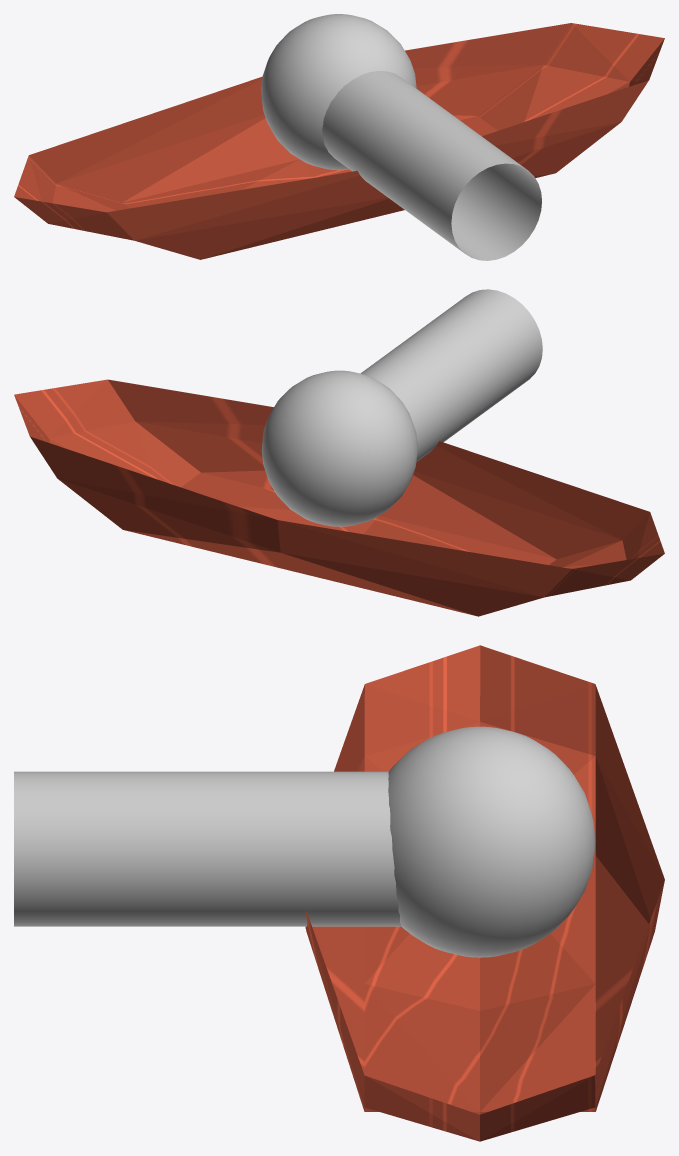
Rendered from Player.obj.
The picture shows the model from 3 angles, top to bottom: view 1: azimuth 30°, elevation 25°; view 2: azimuth 150°, elevation 25°; view 3: azimuth 270°, elevation 25°; orthographic projection. The views are drawn at different scales.
Parts seen in each view (by area): view 1: ship, Cannon; view 2: ship, Cannon; view 3: Cannon, ship.
Boxes of the visible parts, x1,y1,x2,y2 form: ship: [14, 23, 664, 259]; Cannon: [261, 14, 541, 260]; ship: [14, 379, 664, 616]; Cannon: [261, 289, 542, 526]; Cannon: [14, 726, 595, 957]; ship: [305, 645, 664, 1141].
Size of the model in its own units: 0.9612 by 0.2611 by 0.5631.
Materials: 2 (1 with a texture image).
